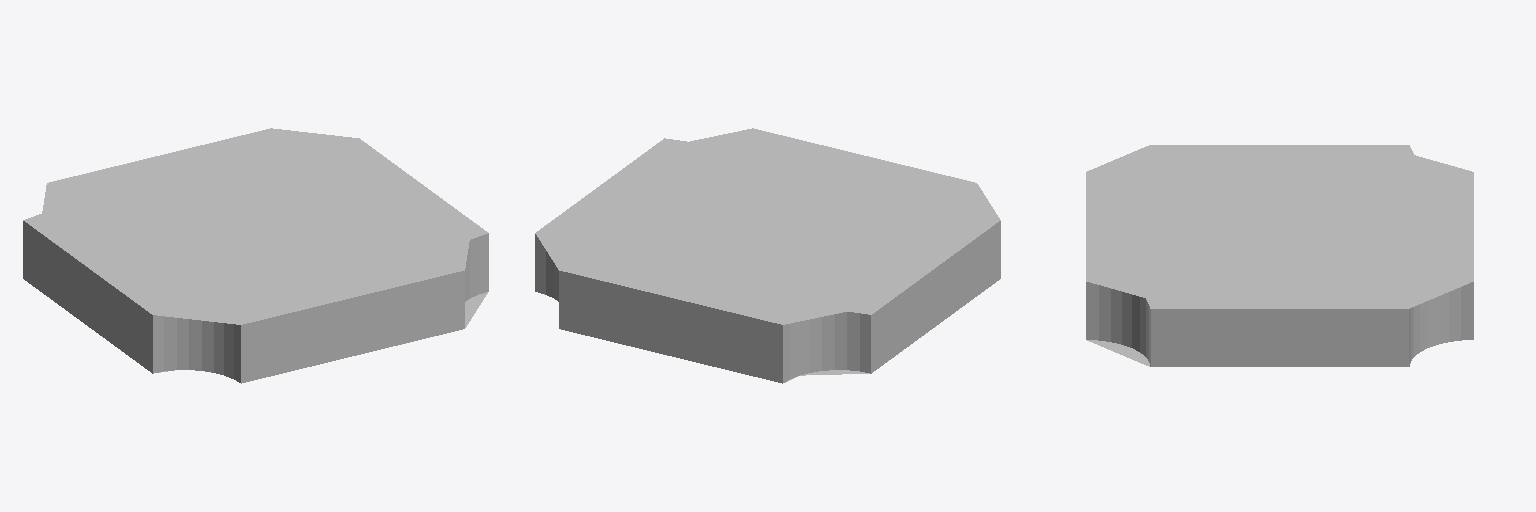
File: junction4way.obj
3 views of the same model, side by side, from view 1: azimuth 30°, elevation 25°; view 2: azimuth 150°, elevation 25°; view 3: azimuth 270°, elevation 25° (orthographic).
Parts seen in each view (by area): view 1: Cylinder.001_Cylinder; view 2: Cylinder.001_Cylinder; view 3: Cylinder.001_Cylinder.
Part boxes in pixels (bbox=[...]): Cylinder.001_Cylinder: bbox=[23, 128, 488, 383]; Cylinder.001_Cylinder: bbox=[535, 128, 1000, 383]; Cylinder.001_Cylinder: bbox=[1086, 145, 1473, 366].
Size of the model in its own units: 6 by 1 by 6.